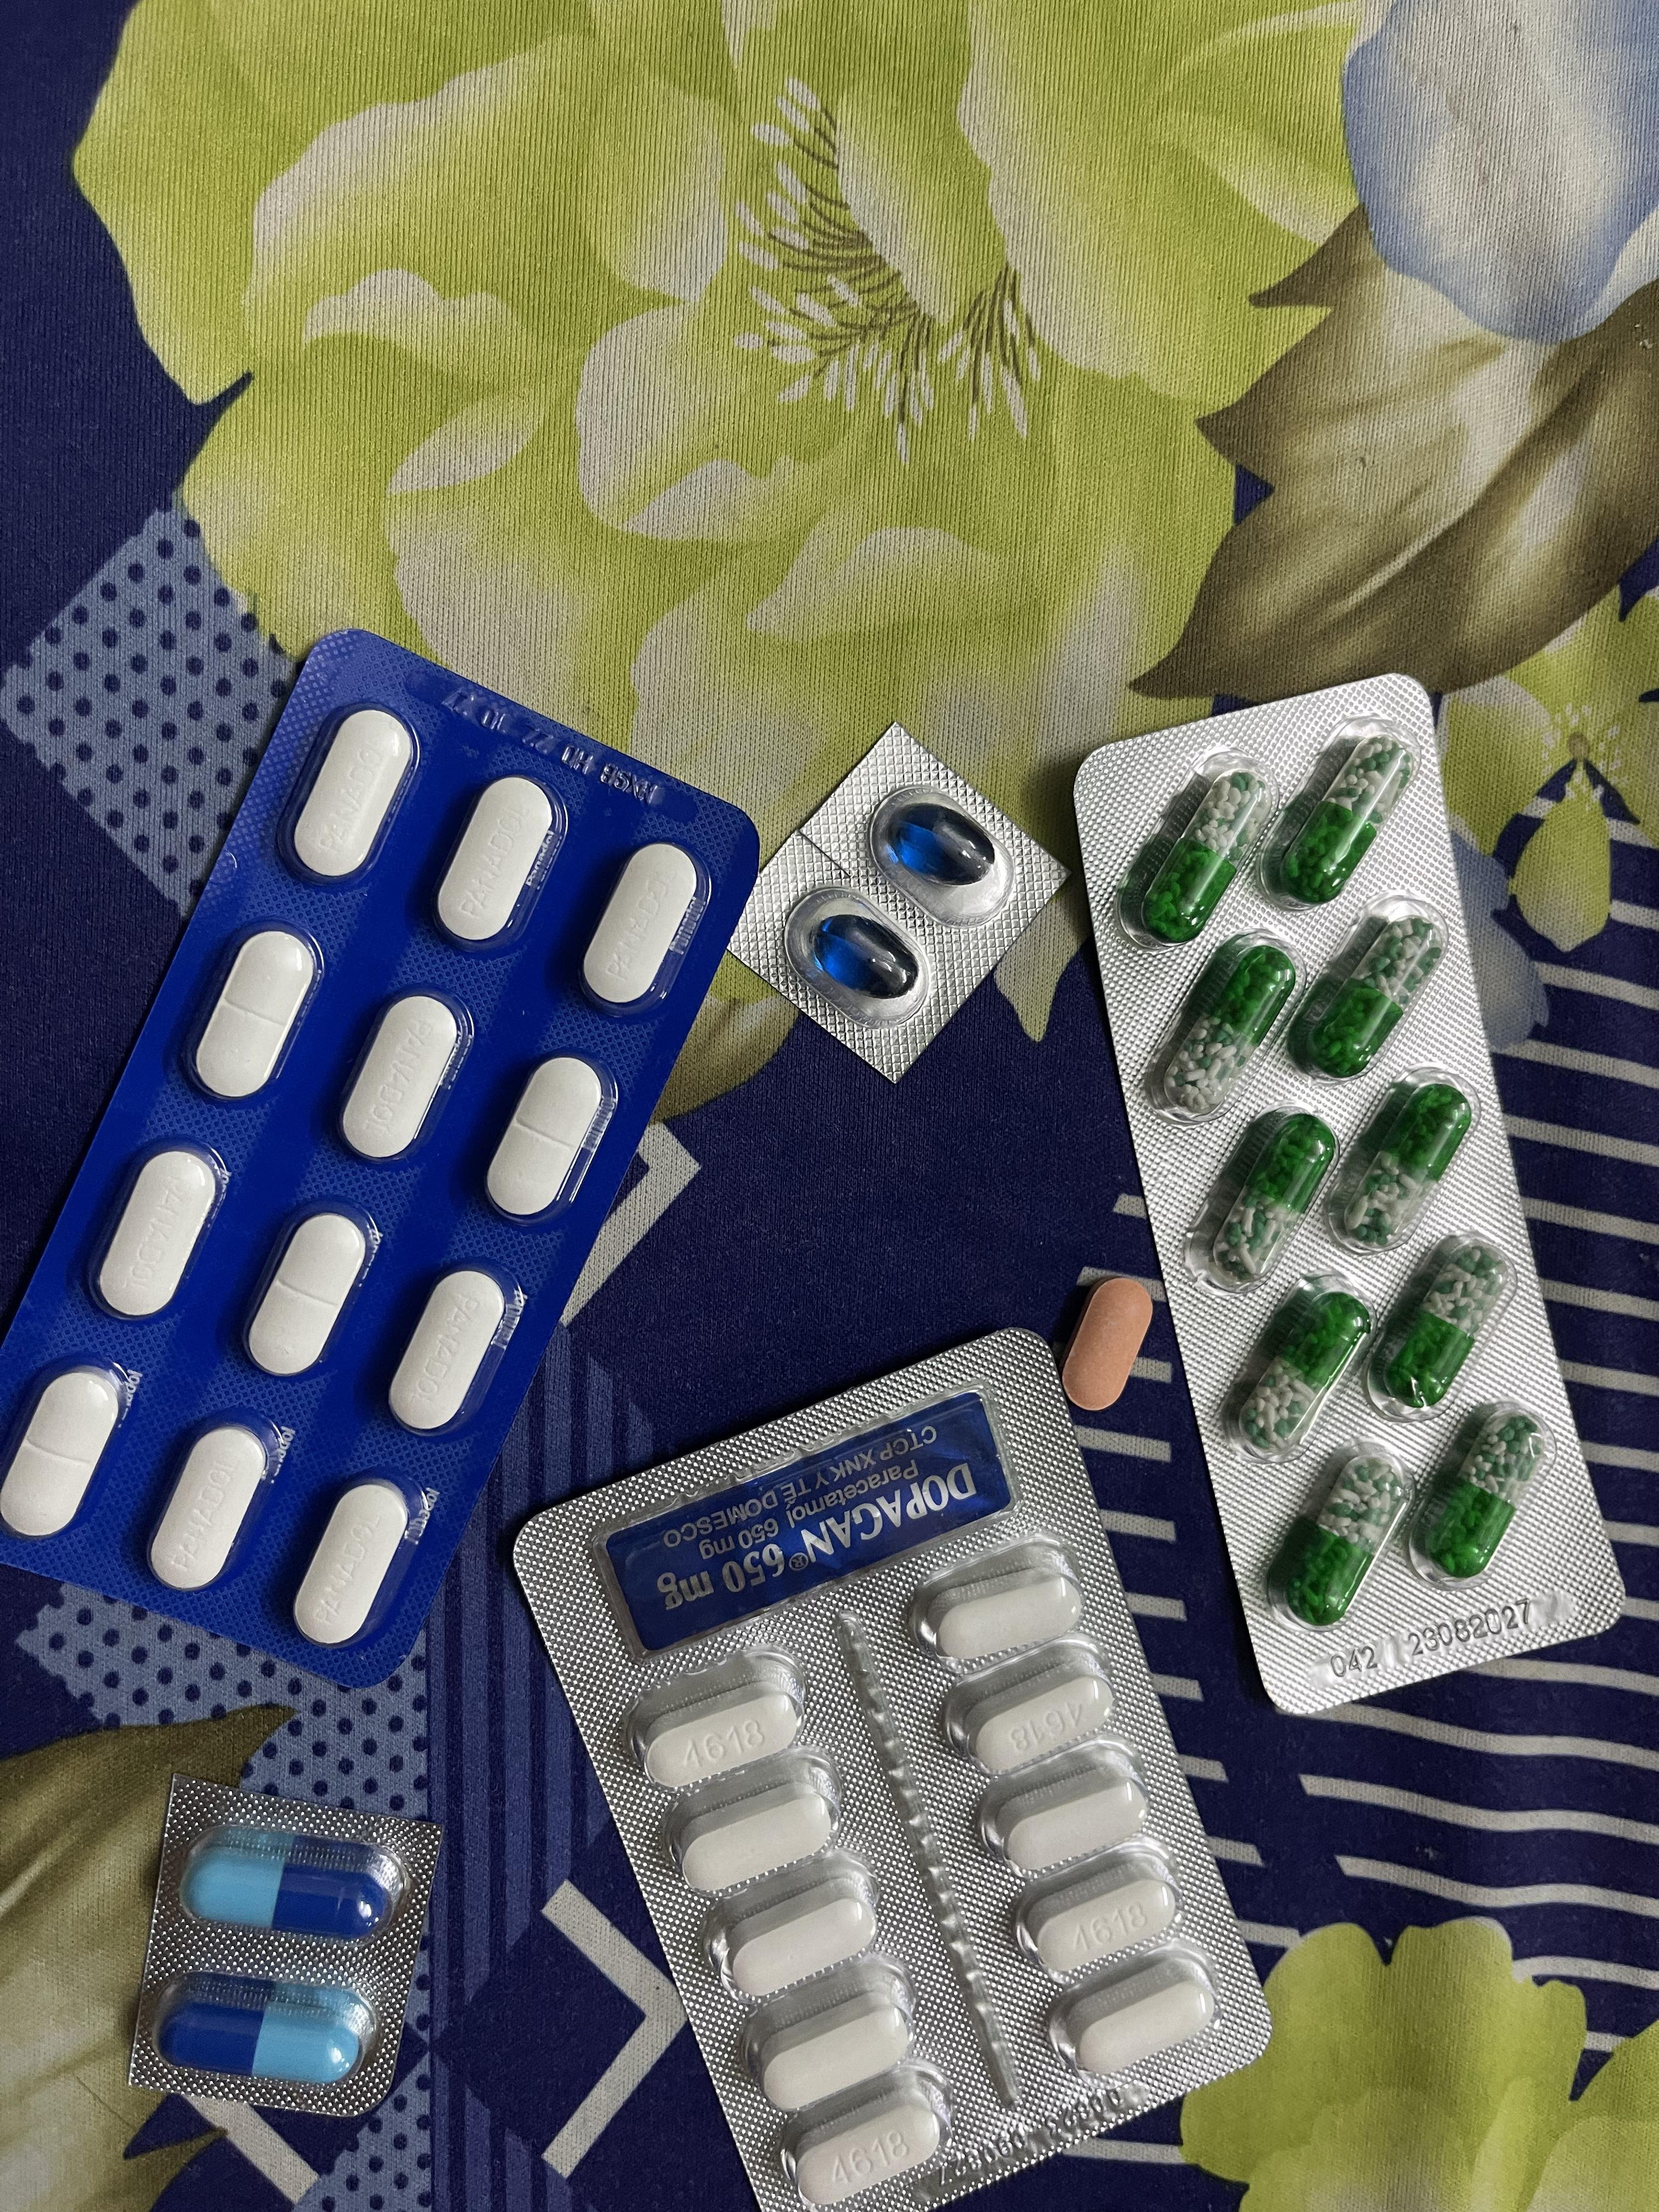Lincomyxin_500mg: (887, 801, 997, 885), (814, 914, 918, 998)
Loratadine_10mg: (1061, 1275, 1150, 1409)
Paracetamol_350mg: (84, 1141, 227, 1324), (145, 1418, 284, 1594), (188, 928, 319, 1106), (0, 1362, 129, 1541), (242, 1205, 375, 1379), (336, 991, 469, 1165), (288, 709, 418, 885), (293, 1475, 423, 1648), (484, 1052, 613, 1224), (432, 775, 559, 949), (575, 843, 701, 1015), (389, 1268, 516, 1437)
Paracetamol_500mg: (667, 1757, 840, 1904), (945, 1644, 1122, 1782), (711, 1862, 884, 2001), (1014, 1841, 1185, 1977), (974, 1742, 1147, 1876), (758, 1987, 918, 2113), (784, 2087, 945, 2203), (647, 1693, 800, 1799), (1068, 1973, 1211, 2080), (925, 1571, 1080, 1663)
Paracetamol_650mg: (1338, 1082, 1473, 1252), (1304, 918, 1443, 1082), (1276, 1451, 1406, 1622), (1237, 1291, 1371, 1456), (1209, 1111, 1337, 1280), (1143, 768, 1269, 939), (1417, 1413, 1547, 1576), (1380, 1247, 1511, 1409), (1283, 738, 1405, 899), (1171, 953, 1291, 1111)
pill: (155, 1972, 385, 2088), (179, 1822, 410, 1939)
